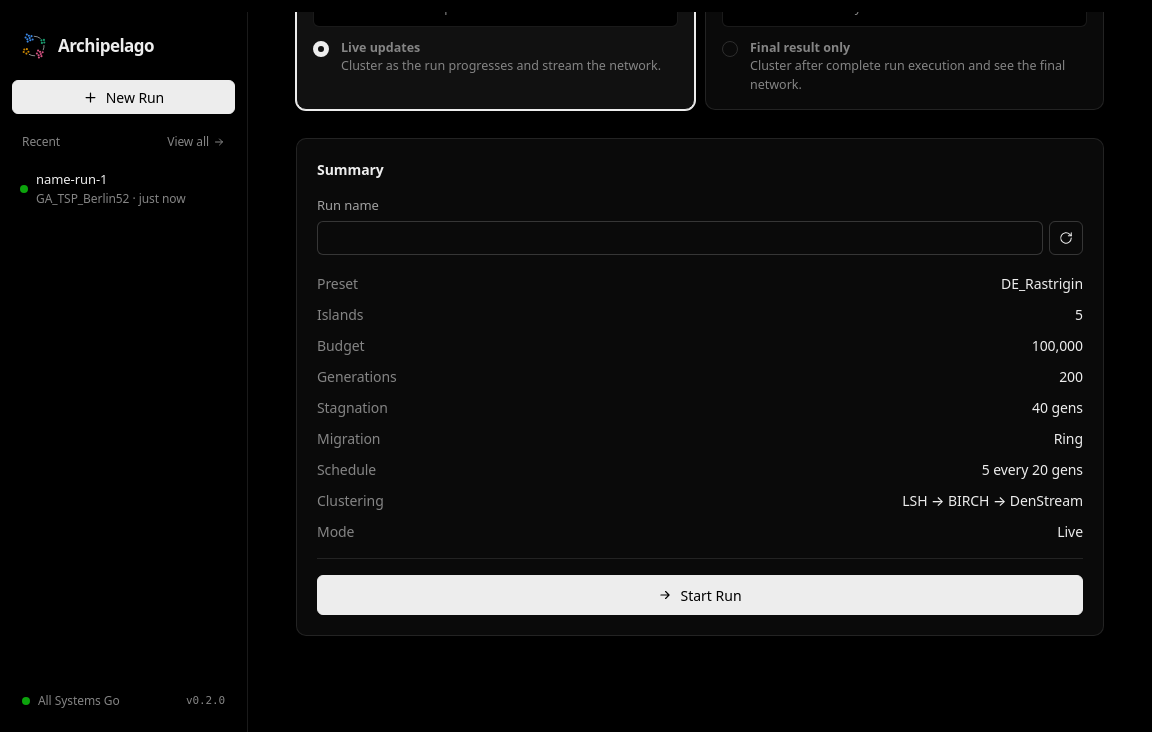
Test: App › refetches the sidebar runs immediately after a successful start
(page scrolled)
Click the button "Start Run" at coordinates (700, 595), box [317, 575, 1083, 615]
Wait 400 ms
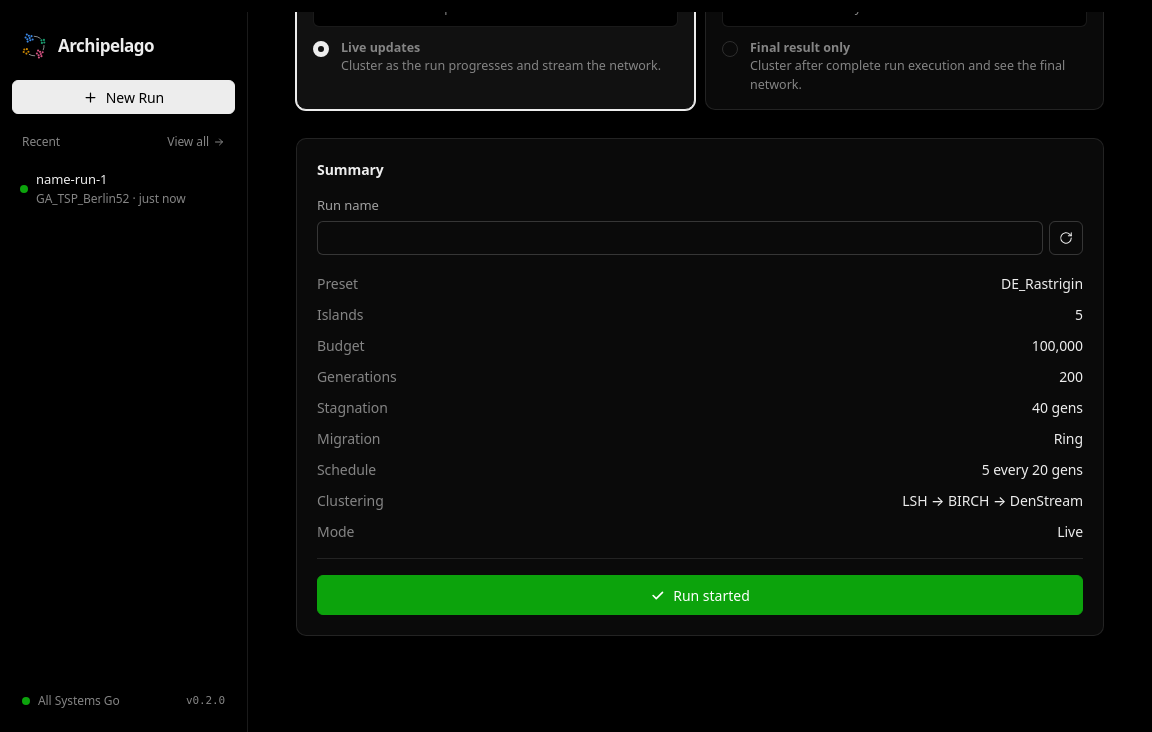
Expected: the button "Run started" is shown, [650, 585, 750, 606]
